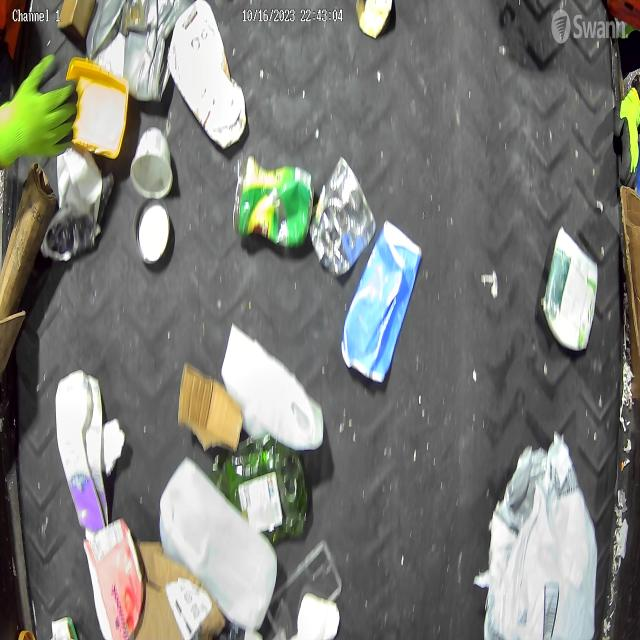can: (311, 156, 376, 280)
milk_jug: (159, 456, 278, 630), (220, 323, 324, 452)
non_white_jug: (168, 0, 246, 150), (85, 0, 193, 102), (212, 434, 308, 545), (55, 371, 109, 542)
